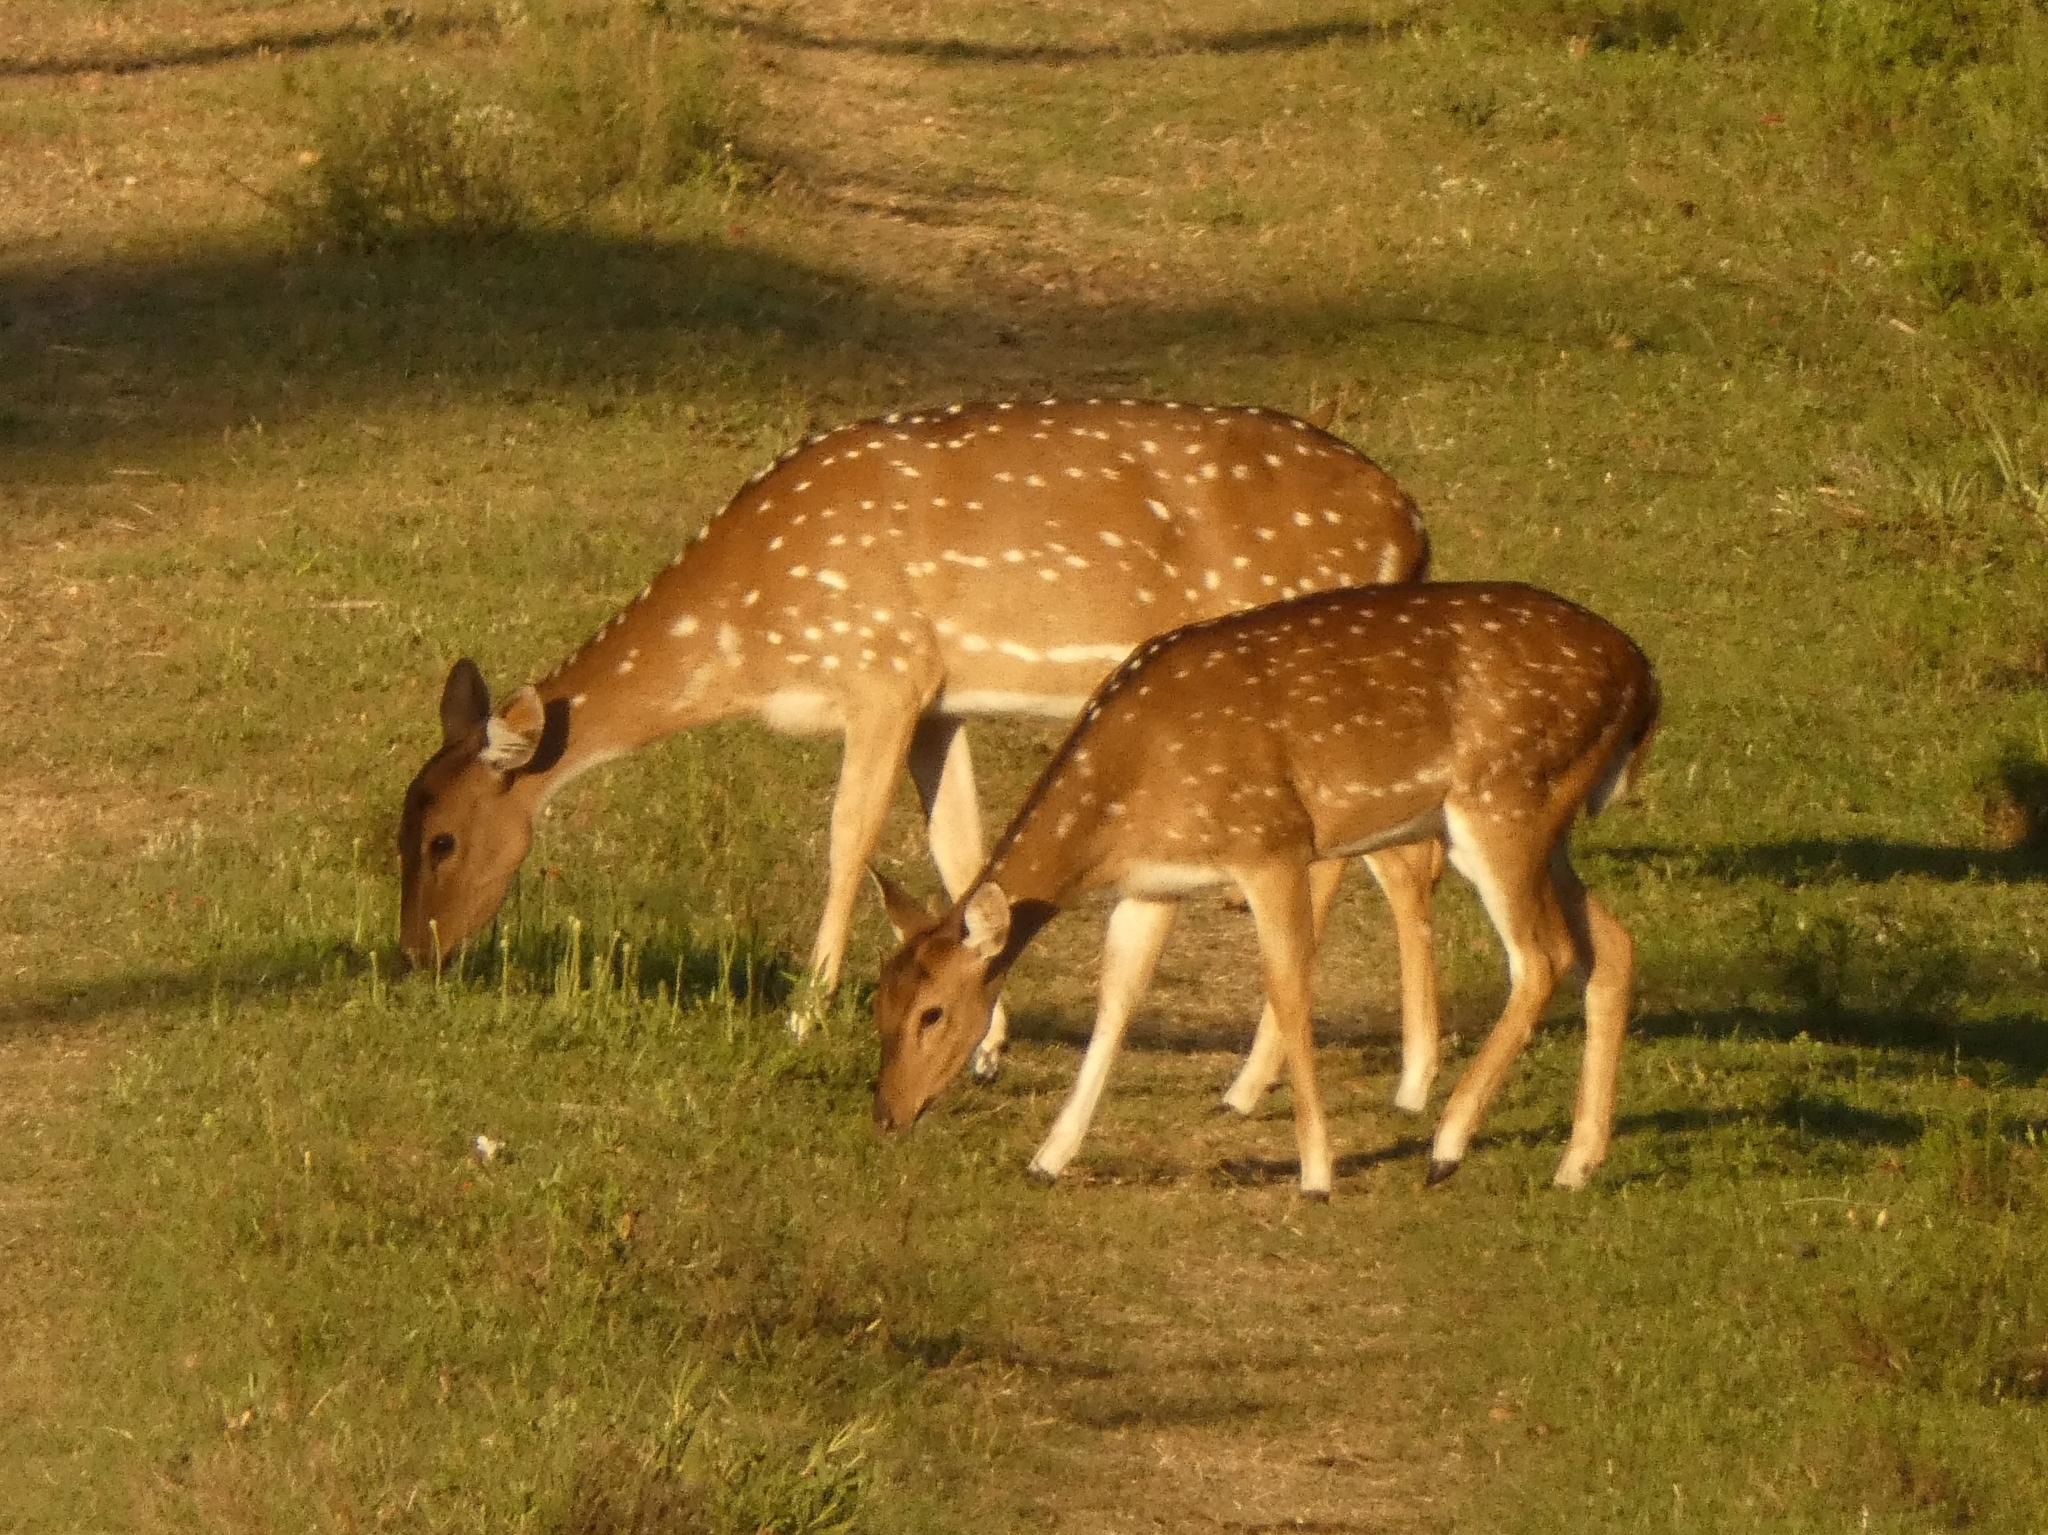Deer: (400, 398, 1429, 1034), (871, 580, 1659, 1196)
